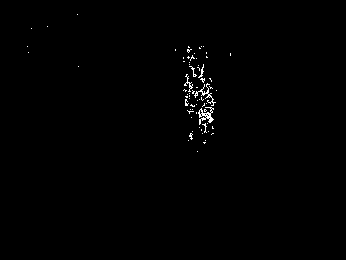person: (182, 63, 202, 145), (196, 76, 215, 139)
